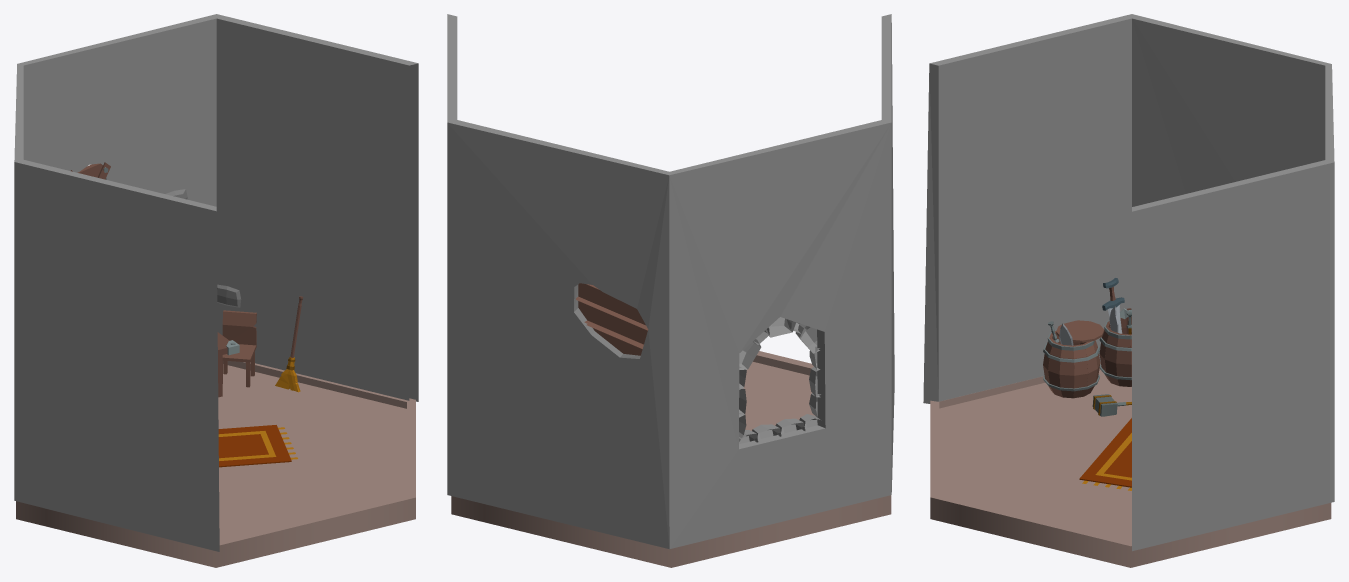
The model's file is Menu.FBX.
3 views of the same model, side by side, from view 1: azimuth 30°, elevation 25°; view 2: azimuth 150°, elevation 25°; view 3: azimuth 270°, elevation 25° (orthographic). The views are drawn at different scales.
Parts seen in each view (by area): view 1: Suelo, Alfombra, Silla, Escoba, Ladrillos, Mesa; view 2: Suelo, Ladrillos, Madera; view 3: Suelo, Barriles, Alfombra, Martillo.
Part boxes in pixels (x1,y1,x2,y2): Suelo: (14, 14, 418, 567); Alfombra: (218, 425, 297, 467); Silla: (222, 310, 256, 387); Escoba: (275, 296, 303, 392); Ladrillos: (165, 189, 241, 307); Mesa: (217, 332, 239, 397); Suelo: (447, 14, 894, 567); Ladrillos: (739, 317, 821, 444); Madera: (576, 283, 648, 355); Suelo: (923, 14, 1334, 567); Barriles: (1043, 278, 1131, 398); Alfombra: (1079, 418, 1131, 490); Martillo: (1092, 394, 1131, 416).
Bounding box in the file's own units: 232 × 196 × 204.
